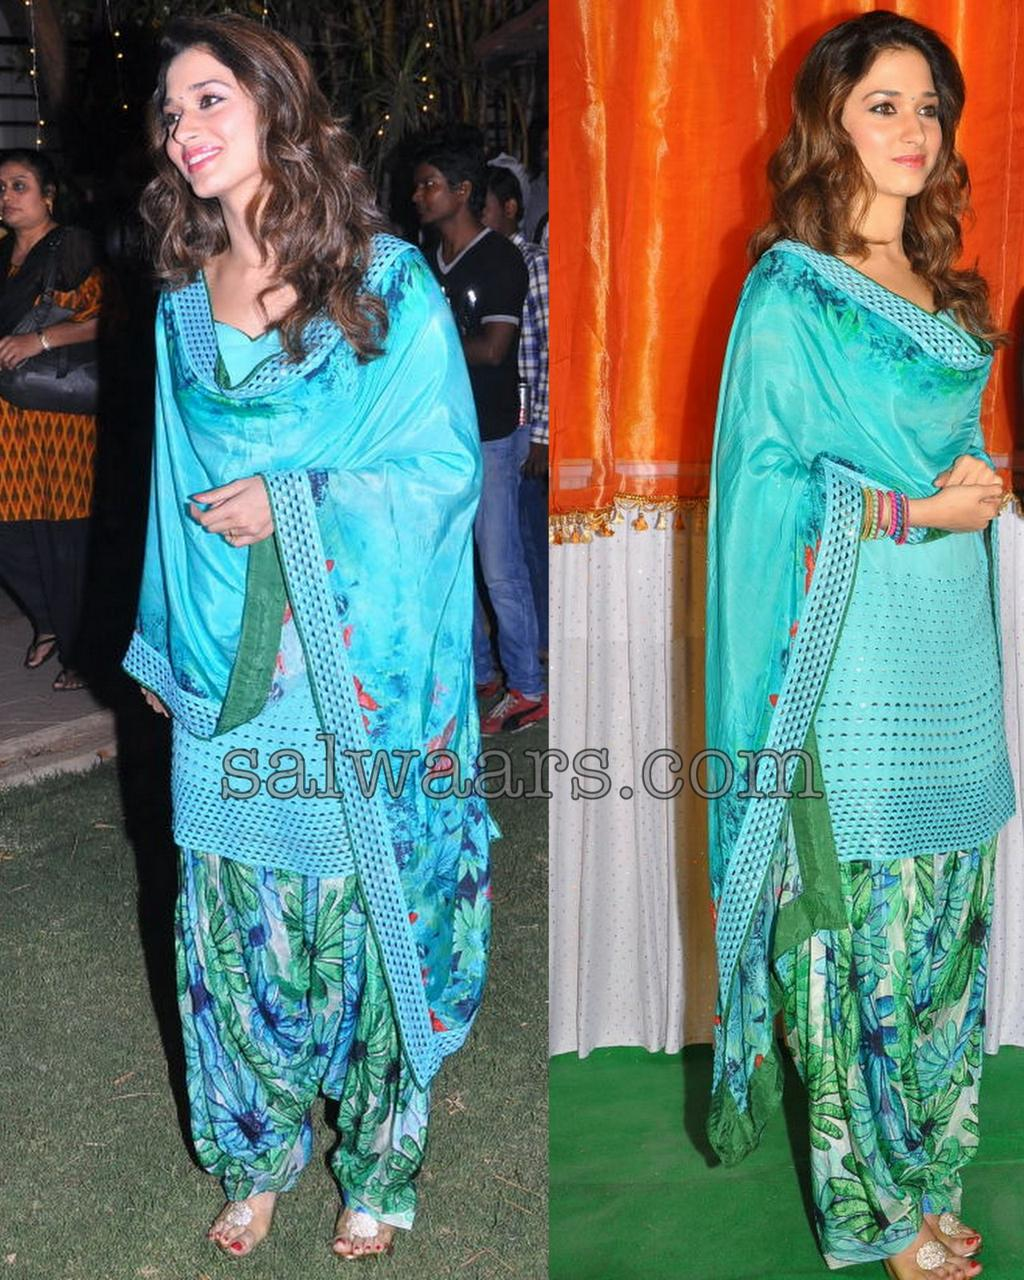face: (164, 58, 262, 197), (840, 63, 941, 195), (413, 168, 456, 224), (0, 167, 43, 223), (465, 189, 503, 241)
